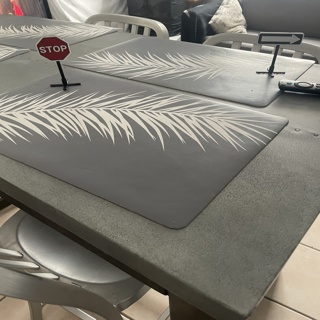sign_oneway_right: (260, 32, 303, 46)
sign_stop: (34, 36, 69, 62)
